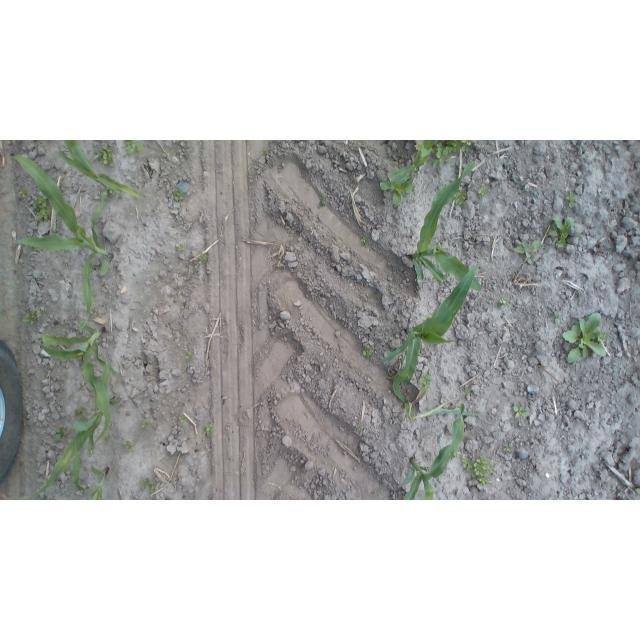Maize: (10, 152, 114, 330), (373, 262, 487, 412), (14, 396, 120, 501), (32, 318, 119, 445), (408, 155, 485, 292), (398, 401, 467, 500), (56, 140, 146, 200), (387, 140, 442, 184), (409, 397, 487, 426), (73, 445, 112, 500)
Weeds: (562, 311, 609, 366), (462, 455, 497, 485), (379, 181, 416, 207), (550, 215, 577, 248), (512, 238, 543, 262), (431, 142, 453, 168), (32, 195, 50, 224), (448, 141, 479, 155), (96, 146, 114, 167), (138, 477, 158, 494), (120, 437, 138, 454), (125, 140, 146, 154), (22, 310, 39, 326), (53, 426, 69, 443), (418, 372, 434, 389), (513, 404, 529, 420), (456, 189, 469, 207), (477, 185, 493, 199), (565, 191, 577, 209), (202, 423, 216, 438), (362, 346, 377, 360), (172, 187, 185, 202), (319, 192, 330, 209), (262, 147, 274, 159), (361, 236, 372, 249), (499, 295, 509, 309), (73, 406, 88, 415), (501, 442, 512, 453), (177, 244, 186, 255), (463, 385, 472, 396), (555, 310, 562, 324), (199, 253, 208, 263), (185, 350, 194, 360), (178, 413, 187, 423), (140, 420, 149, 430), (90, 307, 99, 315), (107, 189, 117, 196), (20, 187, 27, 197), (80, 416, 89, 423), (354, 424, 361, 433), (105, 436, 111, 443)
